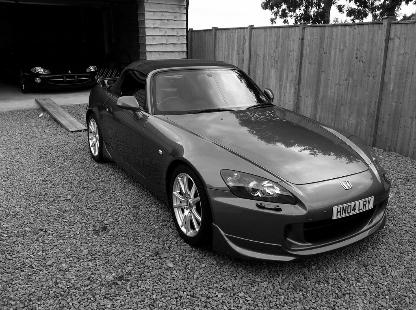license plate: (327, 193, 377, 220)
